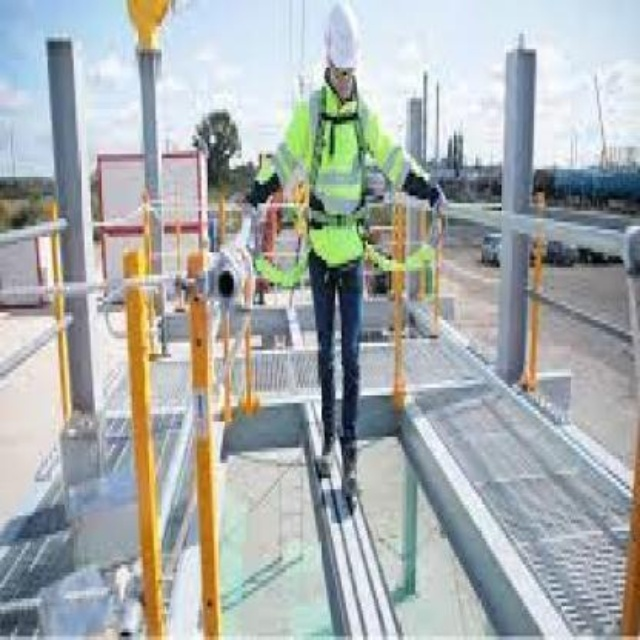Arnes_seguridad: (307, 82, 370, 293)
